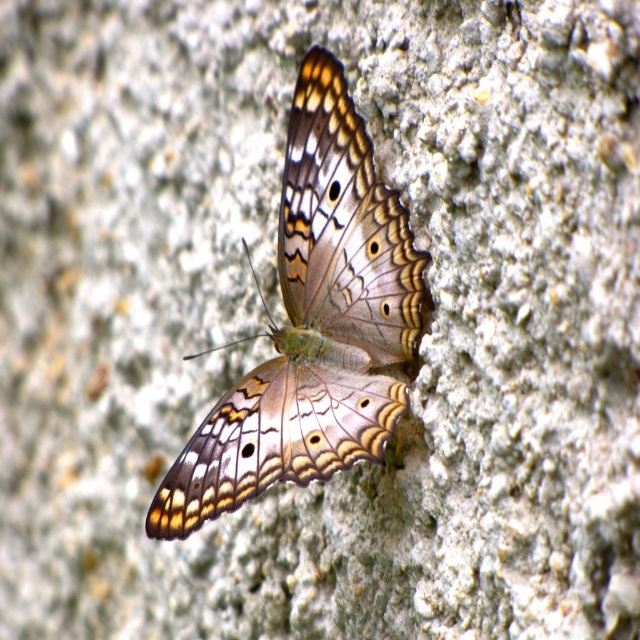Butterfly: (155, 52, 426, 555)
